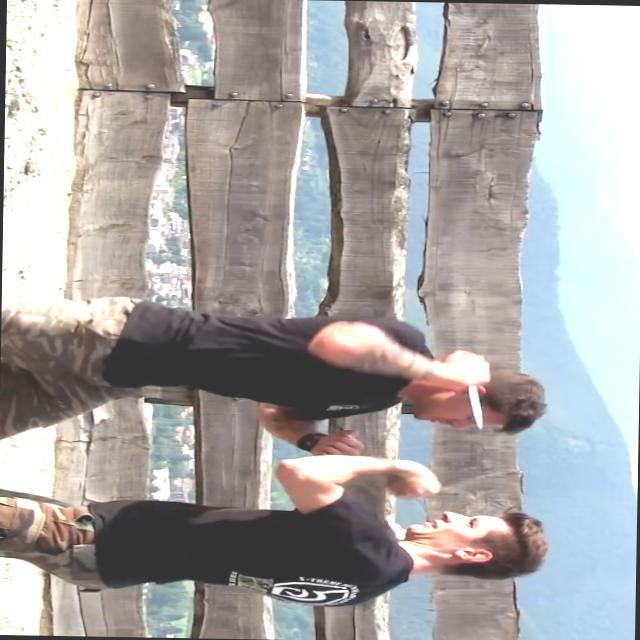knife: (446, 347, 498, 432)
